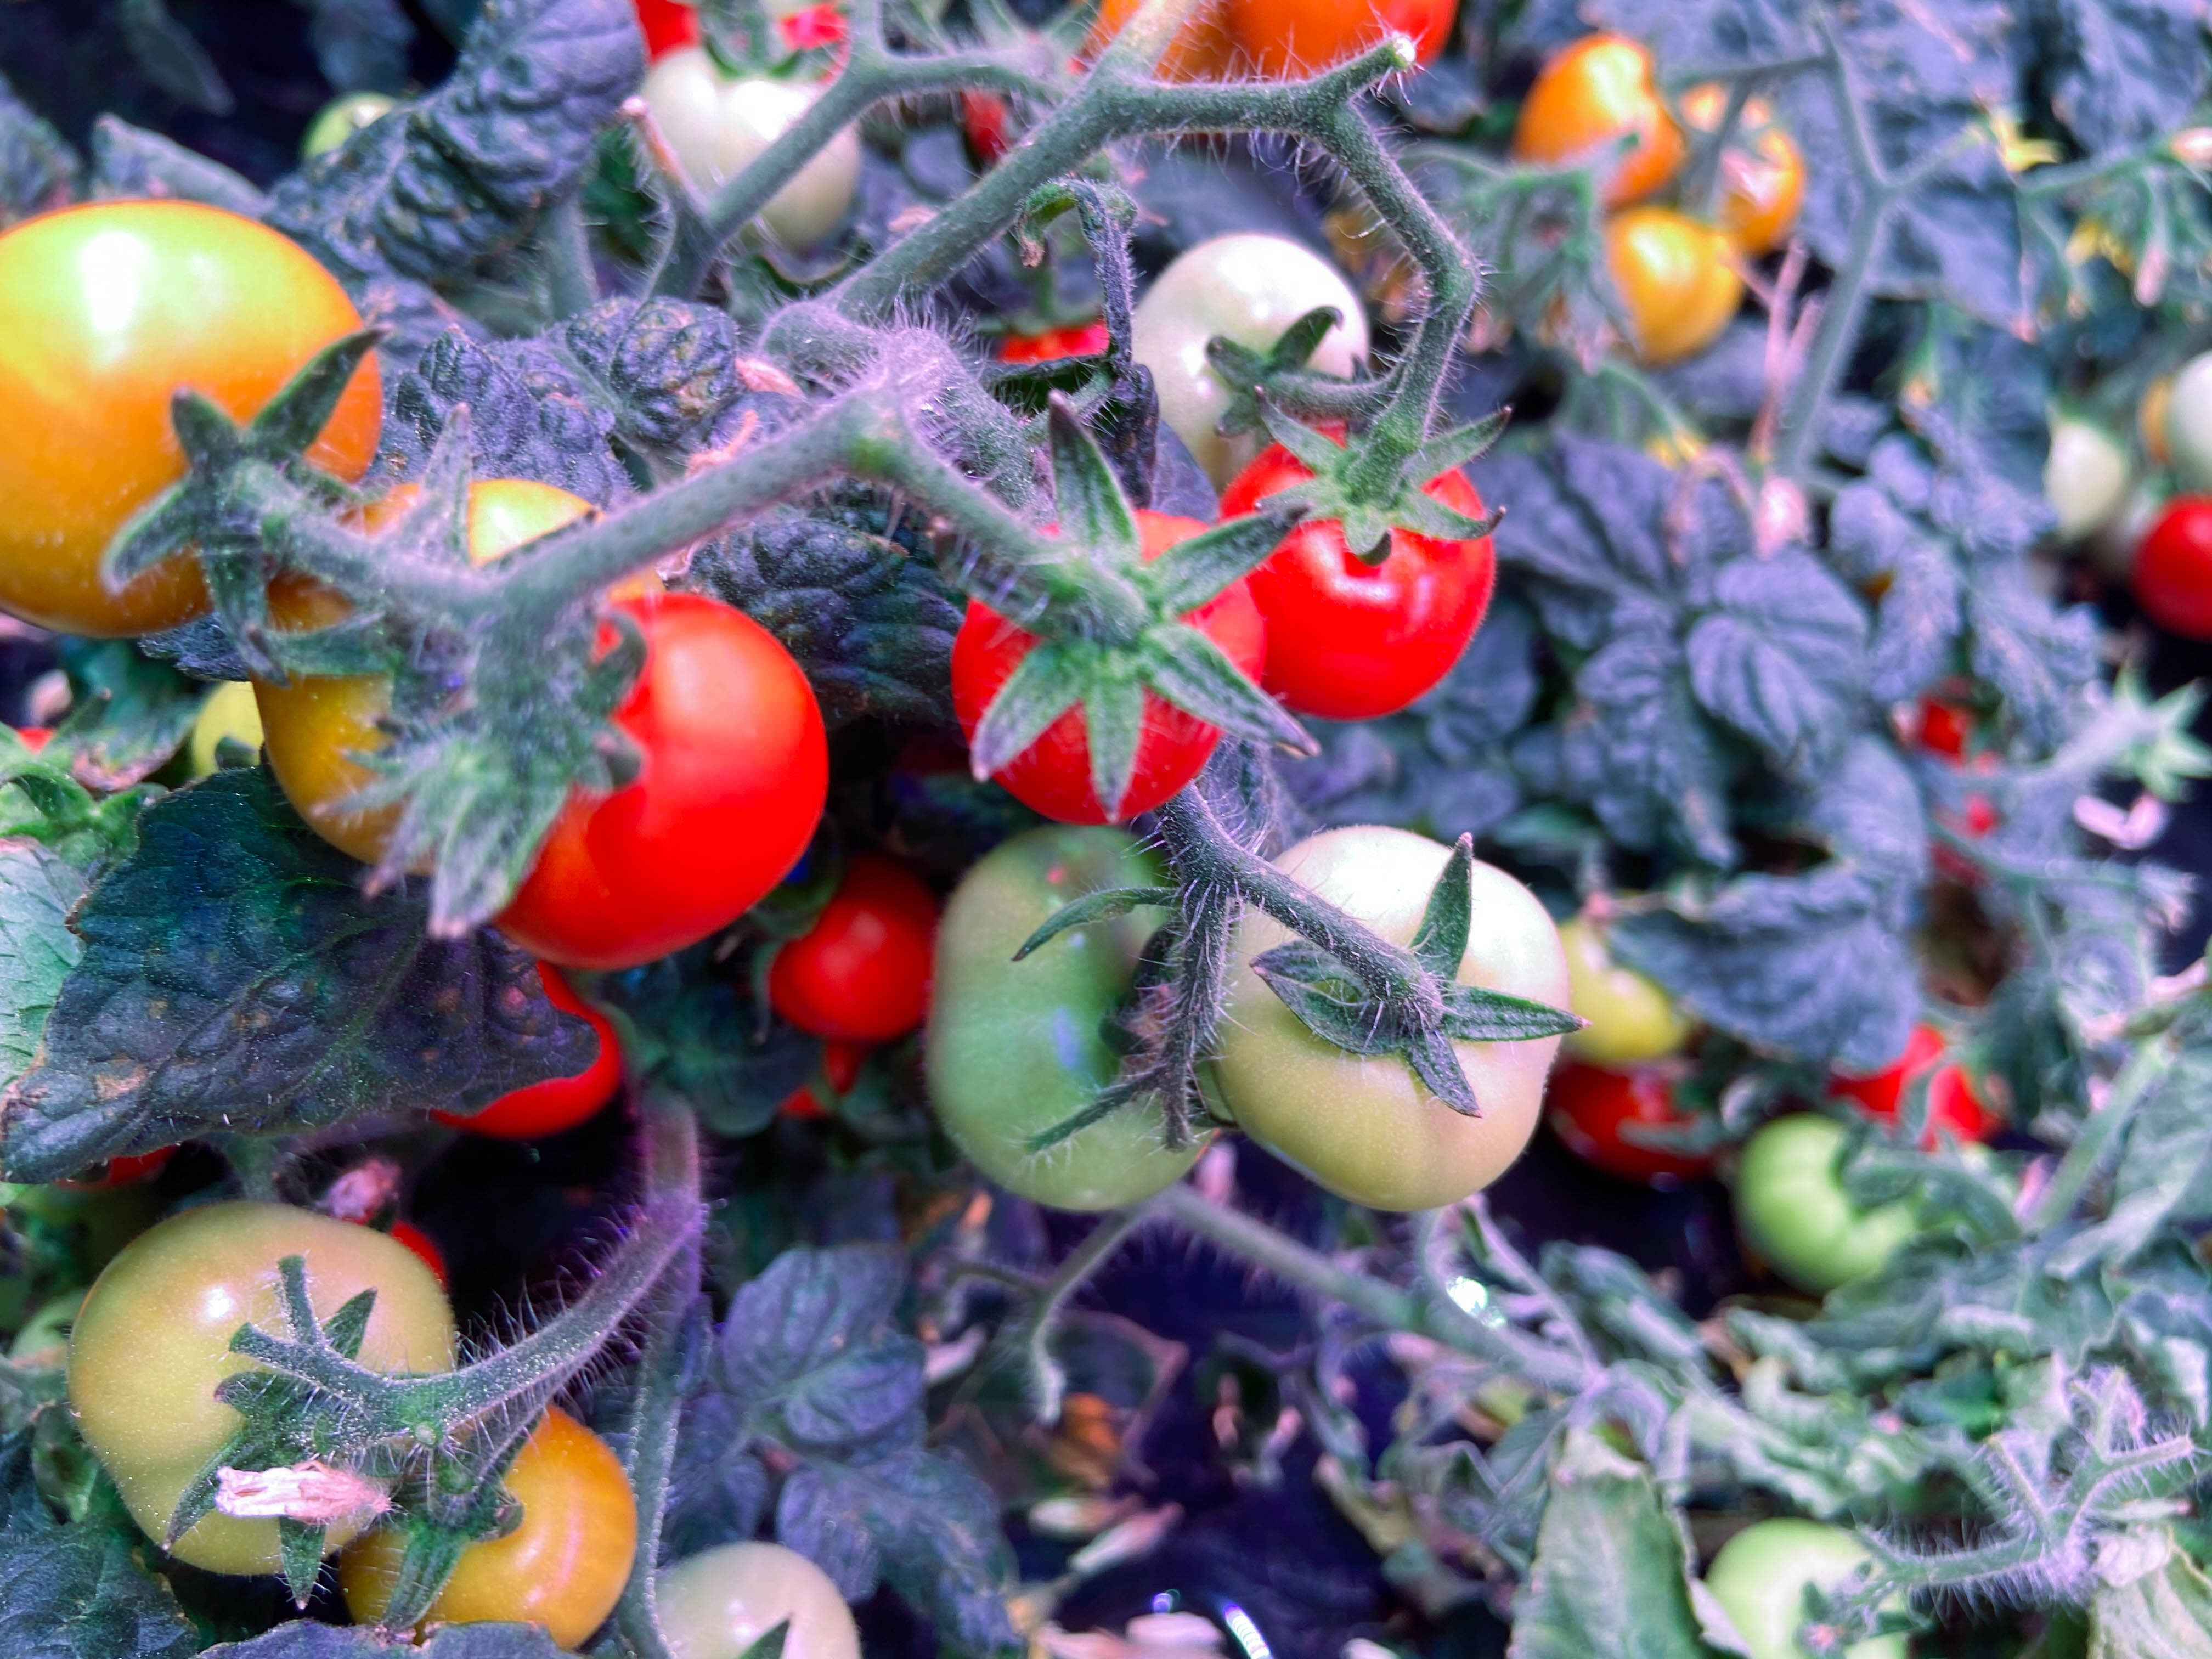green: (75, 1201, 460, 1601), (1211, 819, 1573, 1216), (914, 826, 1240, 1218), (1130, 223, 1376, 484), (643, 49, 862, 251), (580, 1539, 876, 1659), (1735, 1108, 1909, 1288), (1695, 1513, 1898, 1657), (1552, 904, 1703, 1065), (1087, 0, 1235, 91), (2034, 413, 2137, 538), (296, 89, 413, 183), (186, 674, 268, 807), (2146, 340, 2212, 486)
red: (0, 188, 387, 643), (265, 471, 651, 885), (453, 570, 831, 965), (949, 502, 1268, 830), (1221, 427, 1496, 721), (333, 1398, 644, 1652), (1890, 676, 2059, 873), (434, 962, 624, 1136), (761, 854, 937, 1039), (1517, 28, 1691, 211), (1585, 204, 1743, 362), (1226, 0, 1458, 96), (1832, 1016, 1980, 1164), (1667, 92, 1803, 253), (1557, 1054, 1726, 1175), (2128, 488, 2212, 638), (738, 1046, 850, 1157), (974, 301, 1106, 383), (359, 1211, 474, 1269), (960, 73, 1026, 164), (632, 0, 707, 63), (768, 2, 852, 56)
